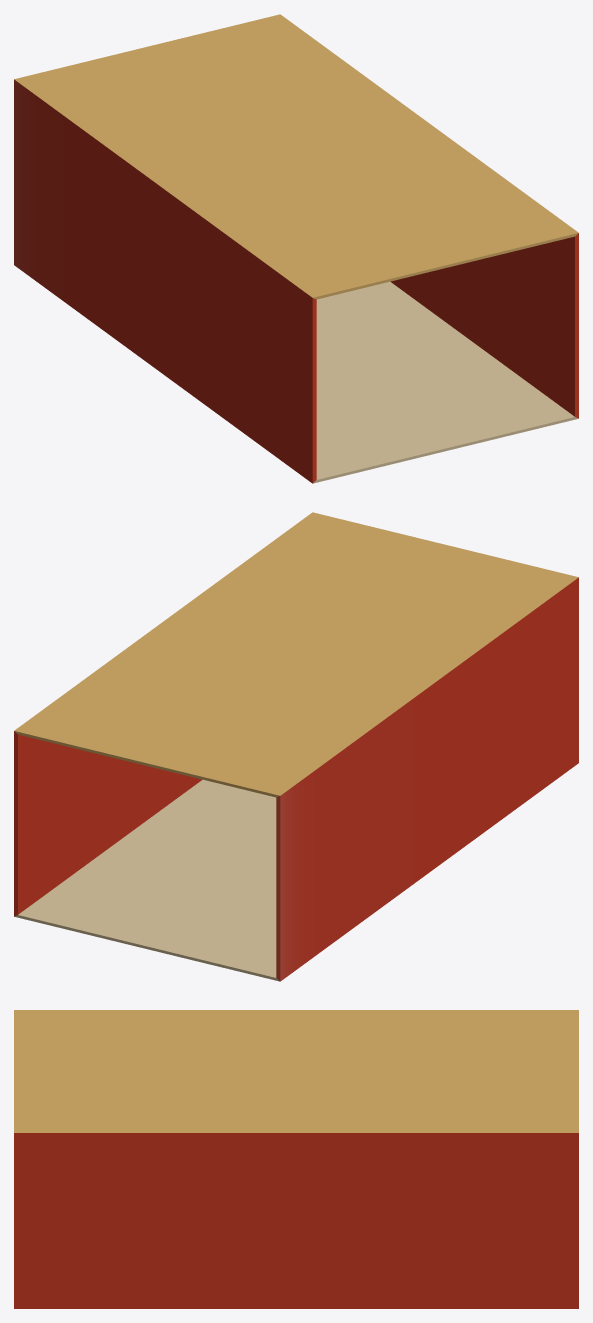
Rendered from CorredorMaior.fbx.
3 views of the same model, one above another, from view 1: azimuth 30°, elevation 25°; view 2: azimuth 150°, elevation 25°; view 3: azimuth 270°, elevation 25° (orthographic). The views are drawn at different scales.
Parts seen in each view (by area): view 1: Corredor3x2x6; view 2: Corredor3x2x6; view 3: Corredor3x2x6.
Boxes of the visible parts, x1,y1,x2,y2 form: Corredor3x2x6: (14, 14, 578, 483); Corredor3x2x6: (14, 512, 578, 981); Corredor3x2x6: (14, 1010, 578, 1308).
Bounding box in the file's own units: 618 × 412 × 1200.
